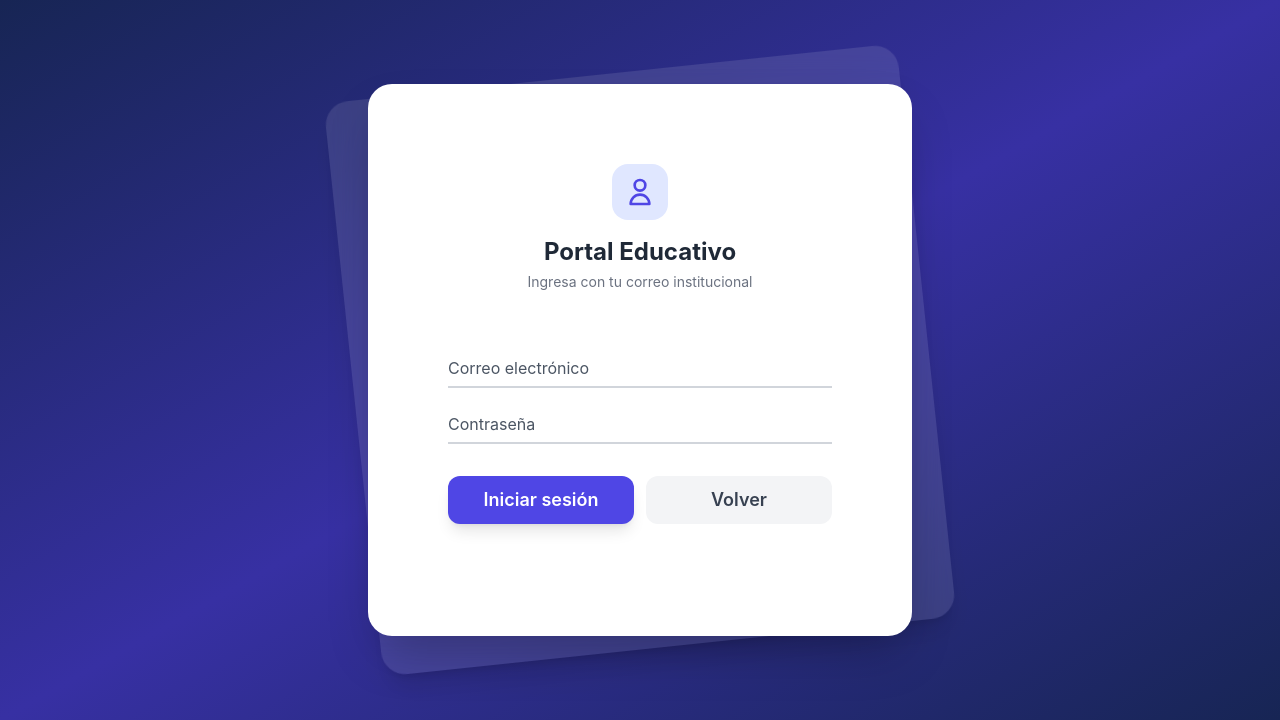
Test case: LoginForm › should show error for invalid email domain
Type "test@gmail.com" into the field with placeholder "correo@alumnoCBO.cl". click: (640, 368)
box: [448,348,832,388]
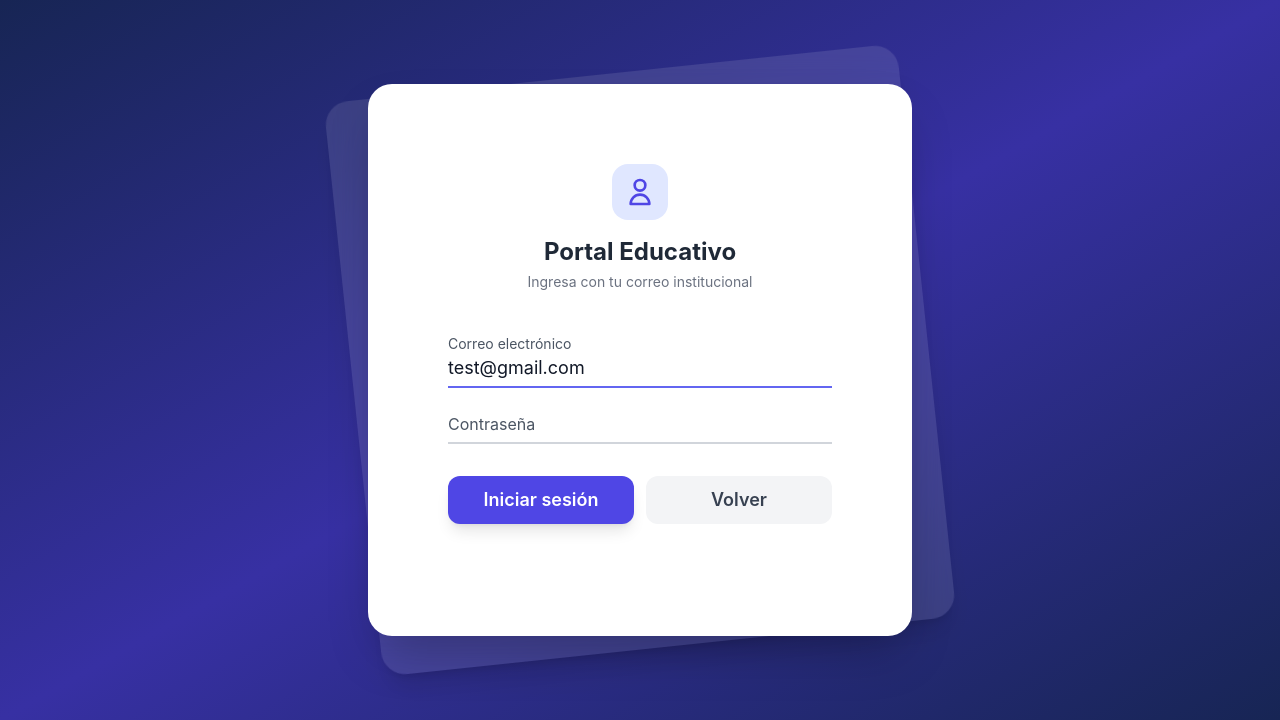
Type "123456" into the password field with placeholder "Contraseña". click: (640, 424)
box: [448,404,832,444]
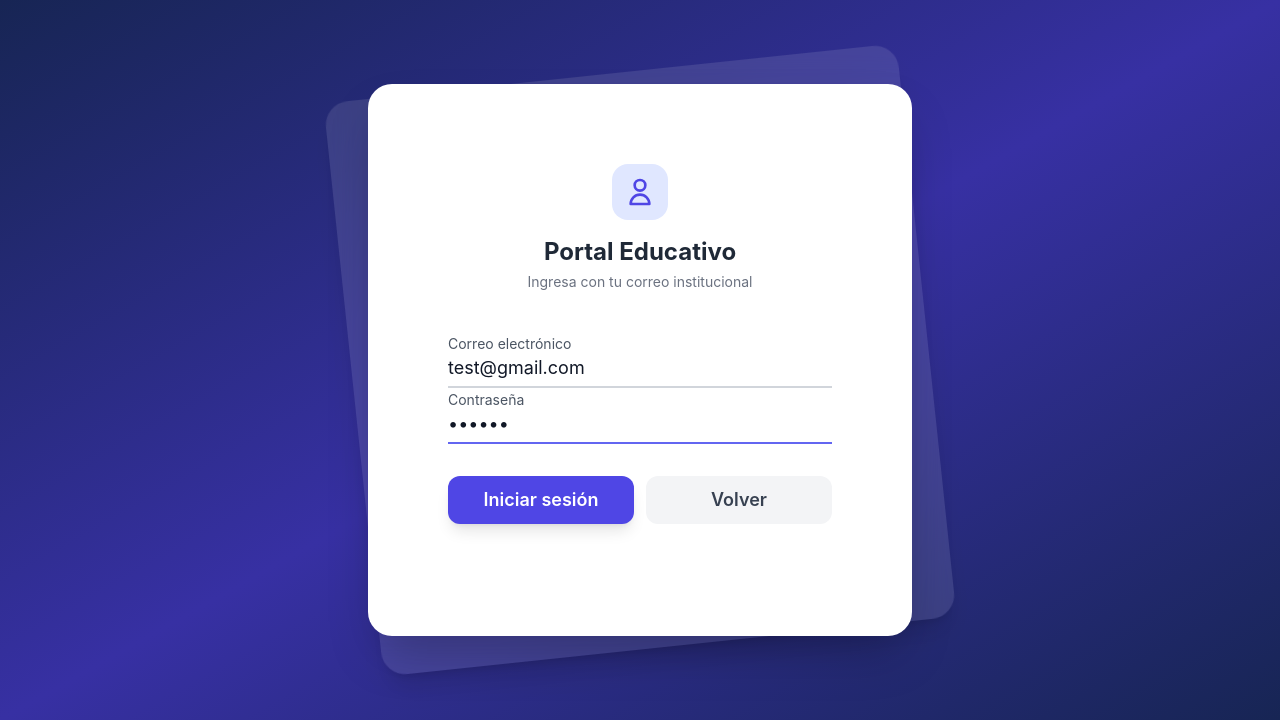
Click the button "Iniciar sesión". click: (541, 500)
box: [448,476,634,524]
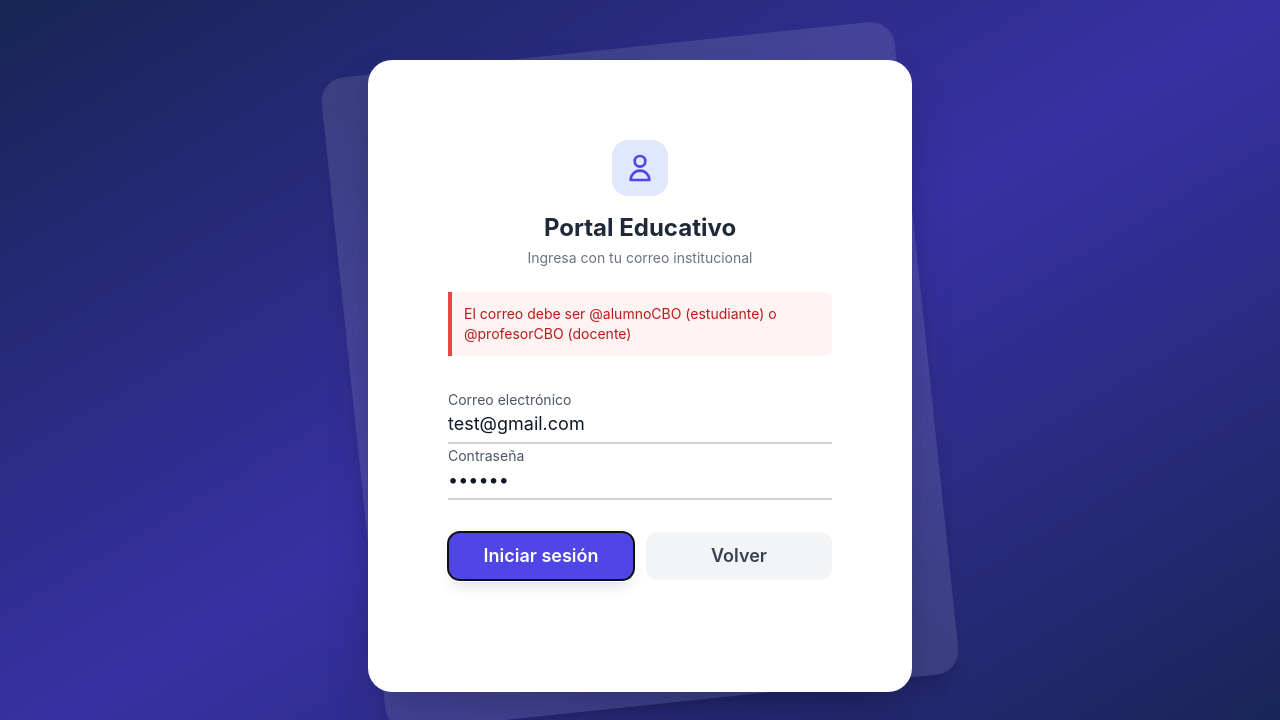
Expected: the text "El correo debe ser" is shown, [464,305,777,342]
